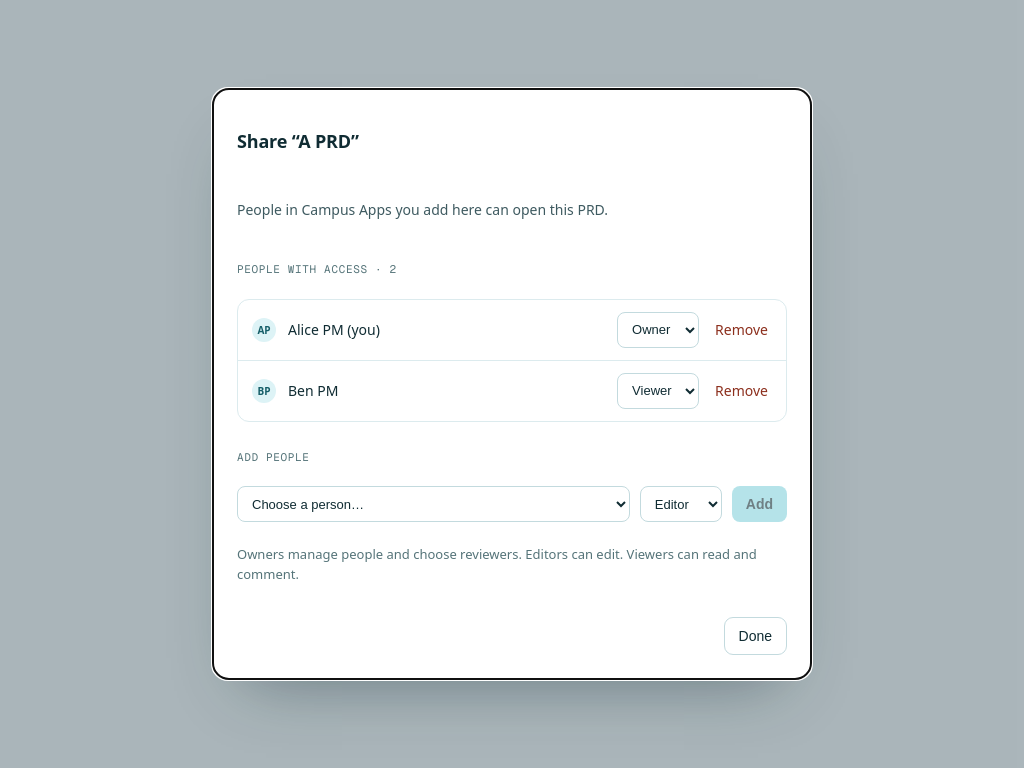
Test: ShareDialog › words owner_required for people and keeps the role shown
The image size is (1024, 768).
Select "Viewer" in the dropdown named "Role for Ben PM". click: (658, 391)
box: [617, 373, 699, 409]
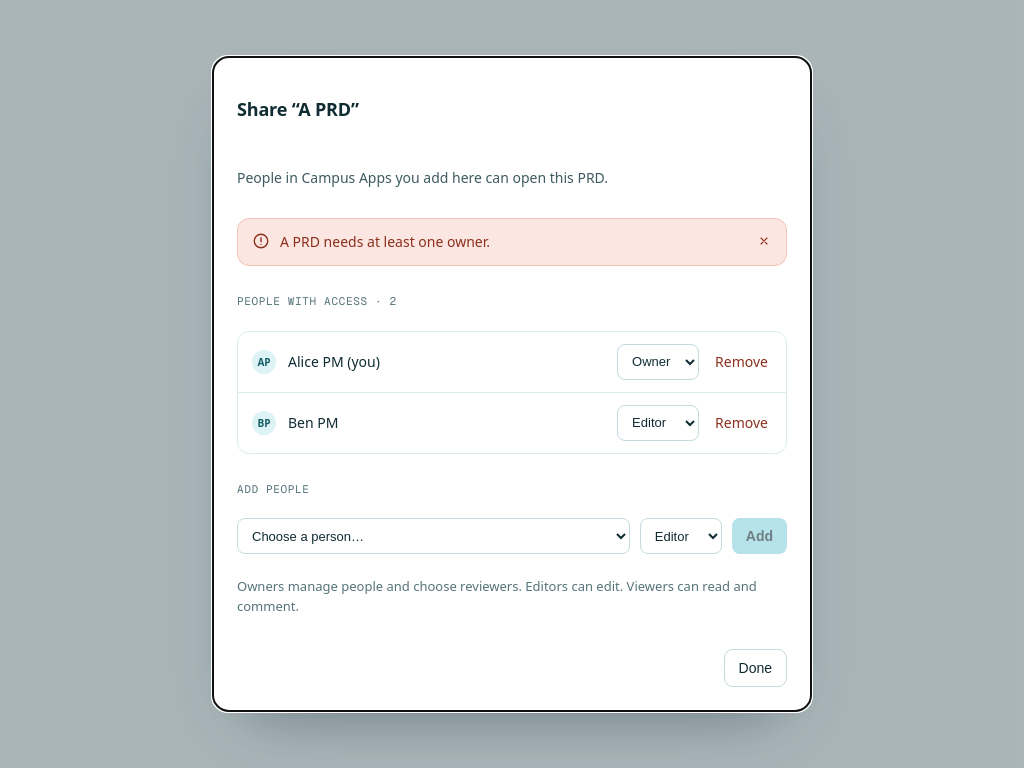
Expected: the text "A PRD needs at least one owner." is shown, [280, 232, 490, 251]
